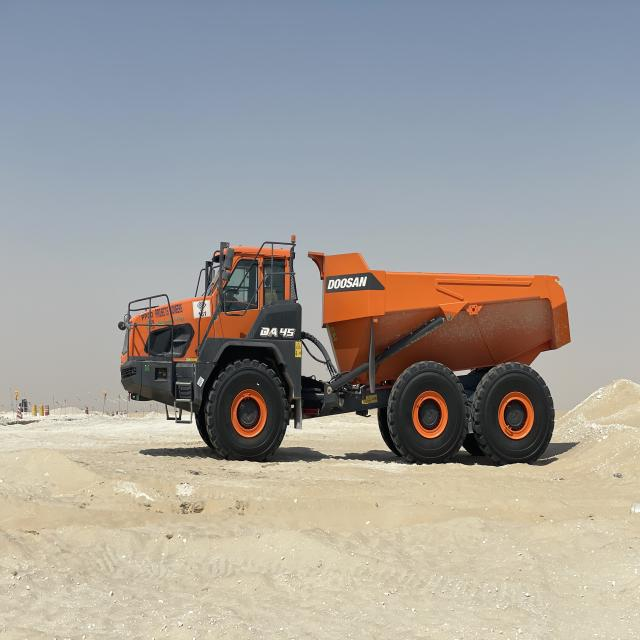dump_truck: (116, 231, 574, 470)
